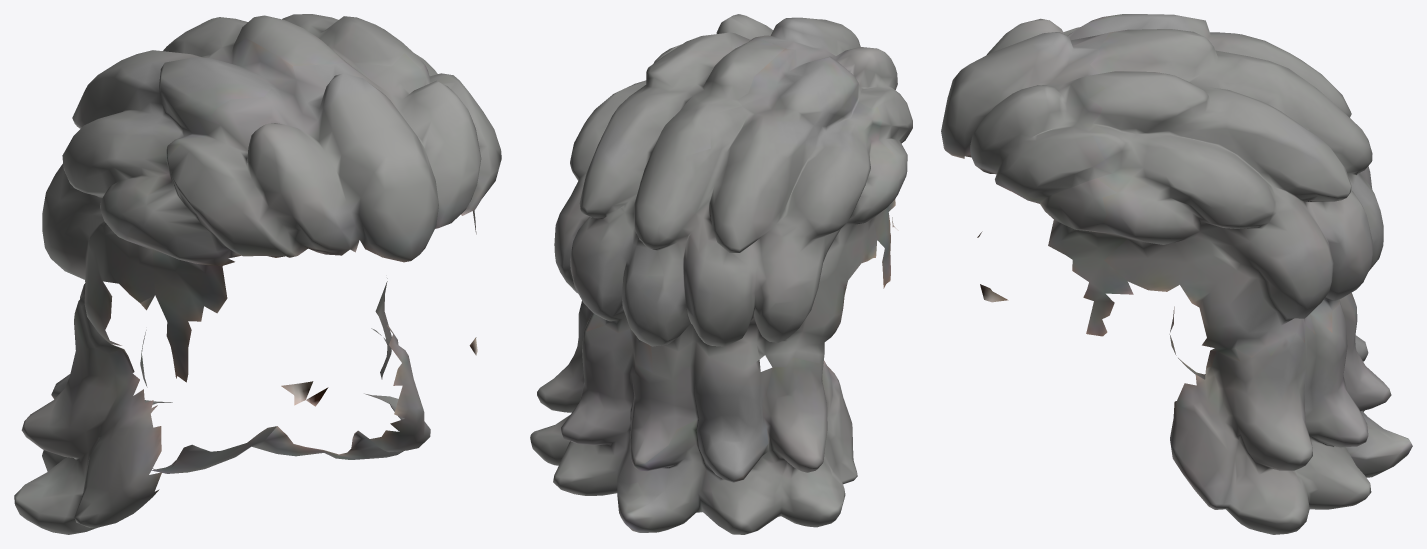
The model's file is hair-m-mullet.glb.
3 views of the same model, side by side, from view 1: azimuth 30°, elevation 25°; view 2: azimuth 150°, elevation 25°; view 3: azimuth 270°, elevation 25° (orthographic). The views are drawn at different scales.
Parts seen in each view (by area): view 1: hair-m-mullet; view 2: hair-m-mullet; view 3: hair-m-mullet.
Part boxes in pixels (bbox=[...]): hair-m-mullet: bbox=[14, 14, 501, 534]; hair-m-mullet: bbox=[530, 14, 912, 534]; hair-m-mullet: bbox=[941, 14, 1412, 534].
Size of the model in its own units: 0.9375 by 1.18 by 1.15.
Materials: 1 (1 with a texture image).
